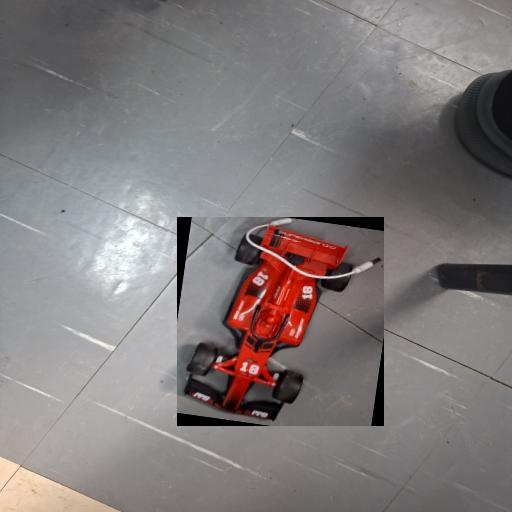carro: (177, 217, 384, 426)
